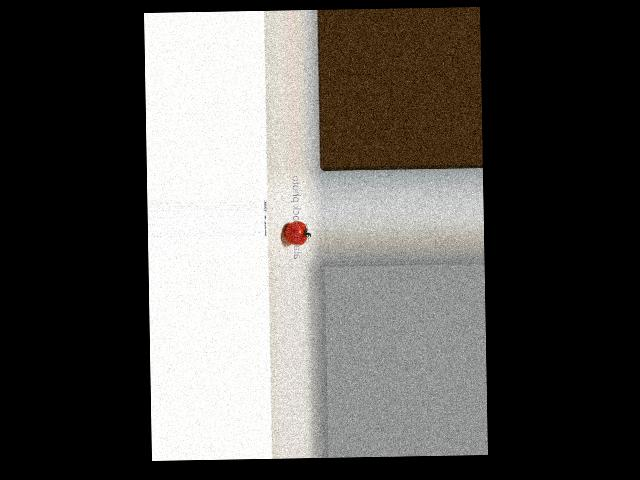tomato: (284, 220, 307, 245)
